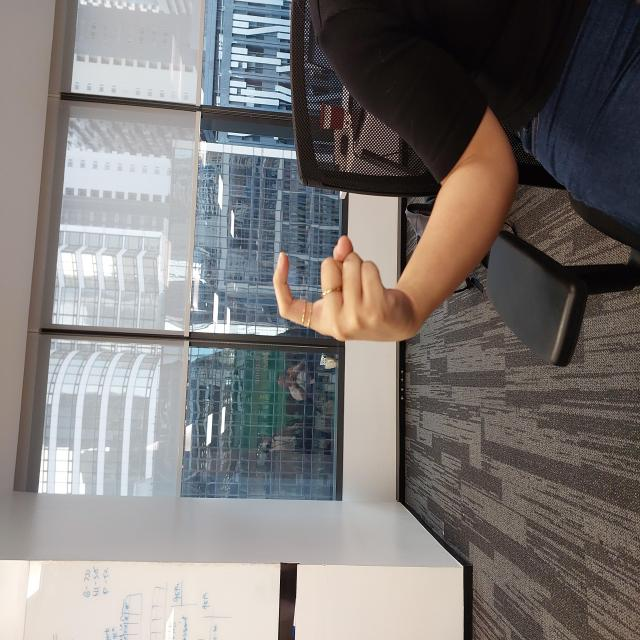X: (296, 272, 406, 414)
